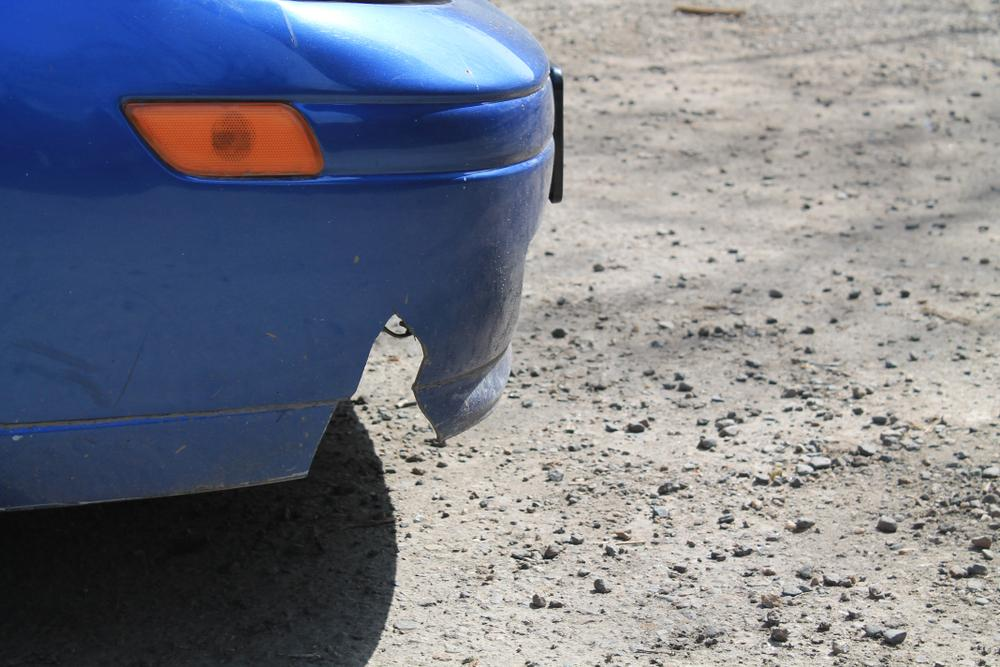crack: (302, 311, 447, 478)
